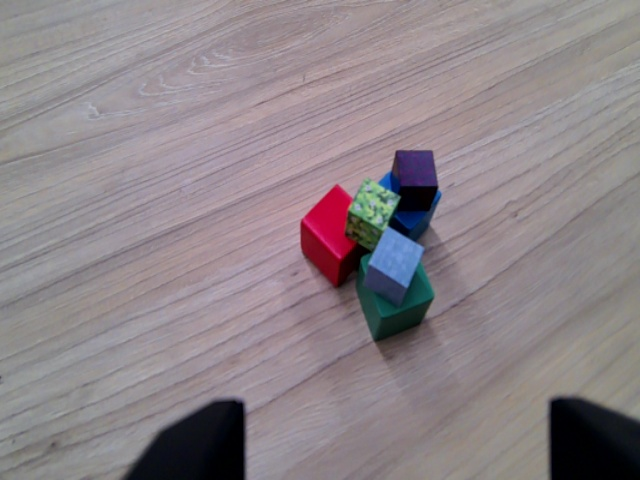brick: (391, 148, 439, 216)
grass: (351, 175, 393, 244)
stone: (368, 229, 425, 300)
